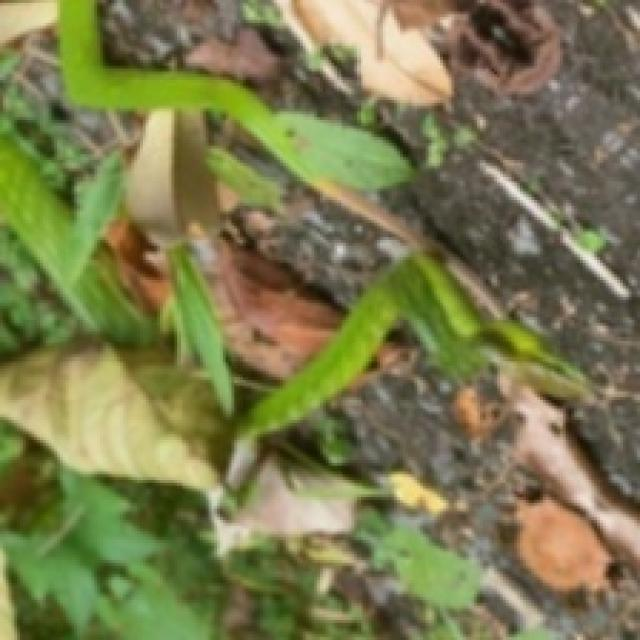red-tailed green ratsnake: (60, 0, 409, 234), (237, 234, 586, 437), (0, 140, 77, 263)
